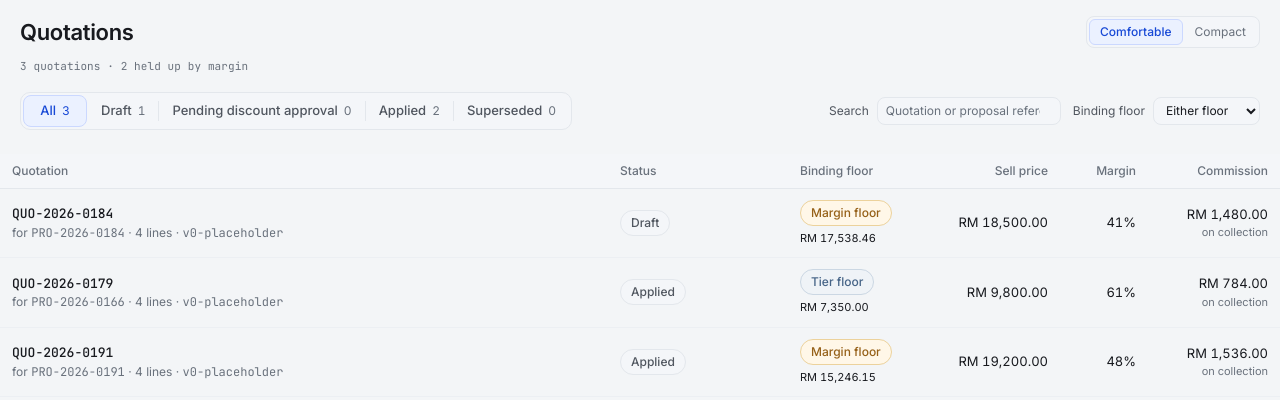
Test case: M07 · quotation list › narrows to the prices held up by cost rather than by the tier
expect the text "QUO-2026-0184" is shown: met, box [12,205,113,222]
Select "Margin floor" in the dropdown labelled "Binding floor" at (1206, 110), box [1153,96,1260,124]
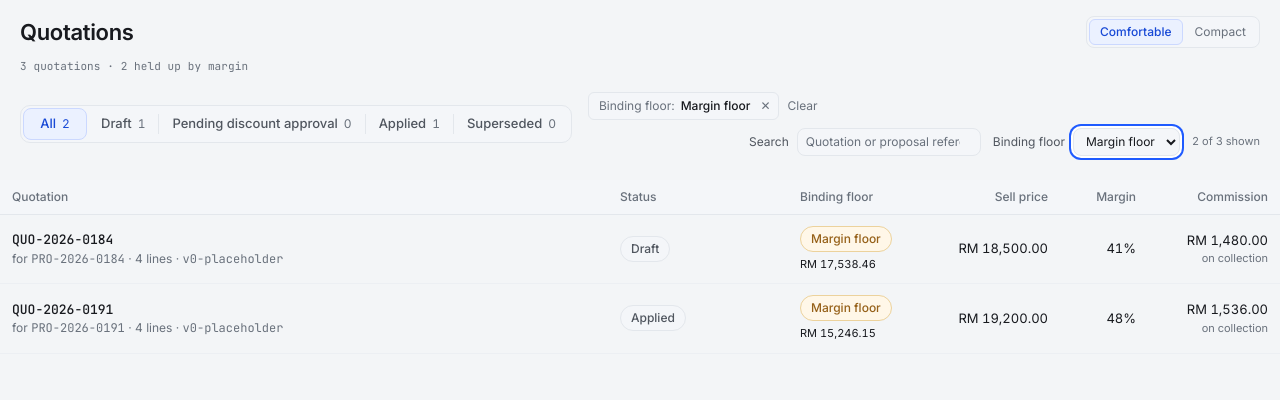
expect the text "Binding floor:" is shown: met, box [599,96,675,114]
